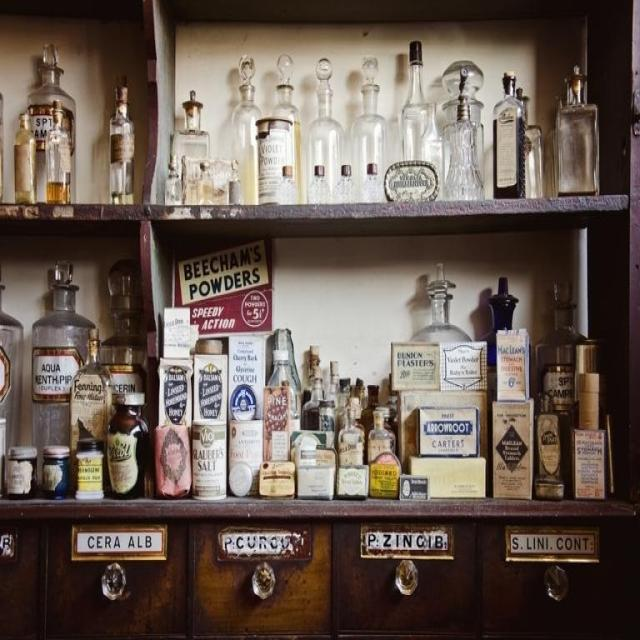Glass: (11, 22, 628, 210), (2, 266, 160, 506)
